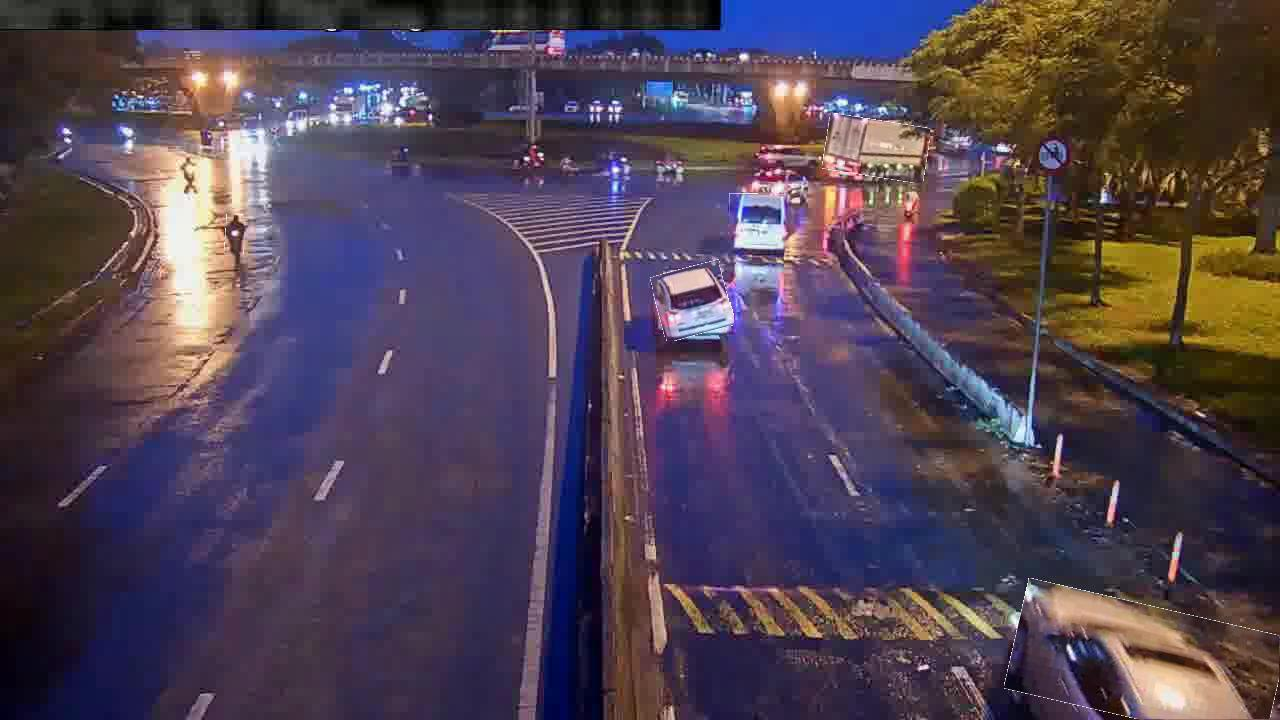car: (1008, 592, 1279, 719), (654, 263, 732, 338)
container: (824, 117, 930, 181)
motorbike: (225, 215, 245, 255)
passenger_car: (729, 194, 787, 251)
